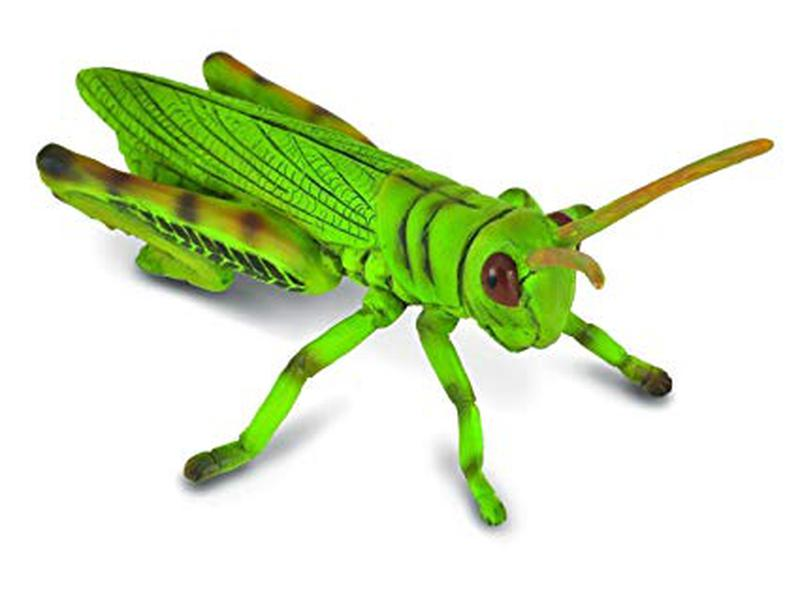Grasshopper: (29, 41, 692, 505)
